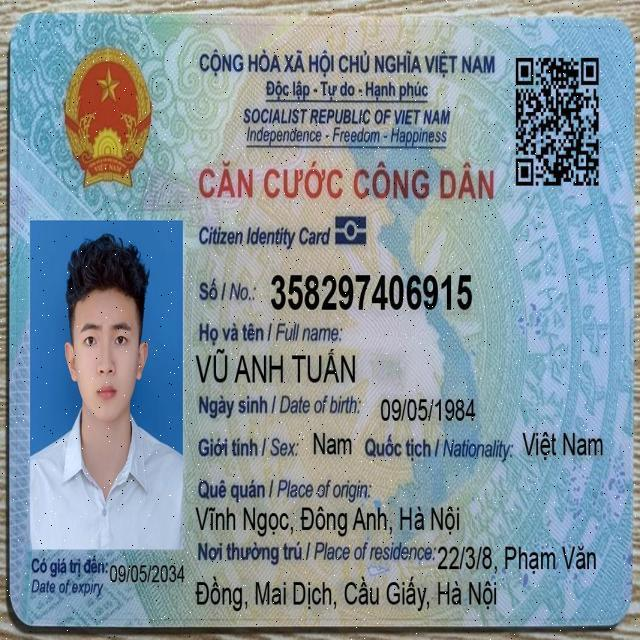current_place: (191, 571, 502, 616), (435, 538, 601, 579)
dob: (376, 391, 479, 429)
expire_date: (106, 557, 187, 591)
gender: (310, 426, 355, 462)
id: (266, 266, 476, 318)
name: (191, 343, 359, 390)
nationality: (519, 424, 606, 466)
origin_place: (193, 500, 467, 540)
